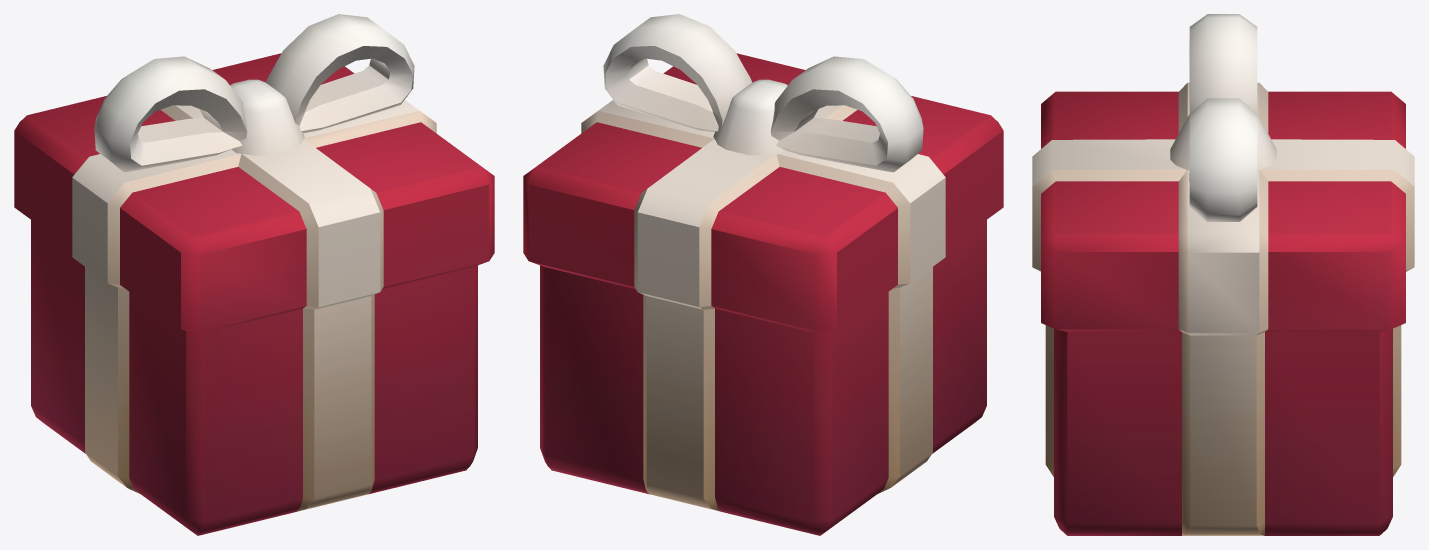
Rendered from julklapp.glb.
3 views of the same model, side by side, from view 1: azimuth 30°, elevation 25°; view 2: azimuth 150°, elevation 25°; view 3: azimuth 270°, elevation 25° (orthographic).
Visible parts, largest first — view 1: present_A_red; view 2: present_A_red; view 3: present_A_red.
Part boxes in pixels (x1=…): present_A_red: x1=14, y1=14, x2=494, y2=535; present_A_red: x1=523, y1=14, x2=1003, y2=535; present_A_red: x1=1032, y1=14, x2=1414, y2=535.
Bounding box in the file's own units: 0.5637 × 0.6617 × 0.5637.
1 material, 1 textured.
